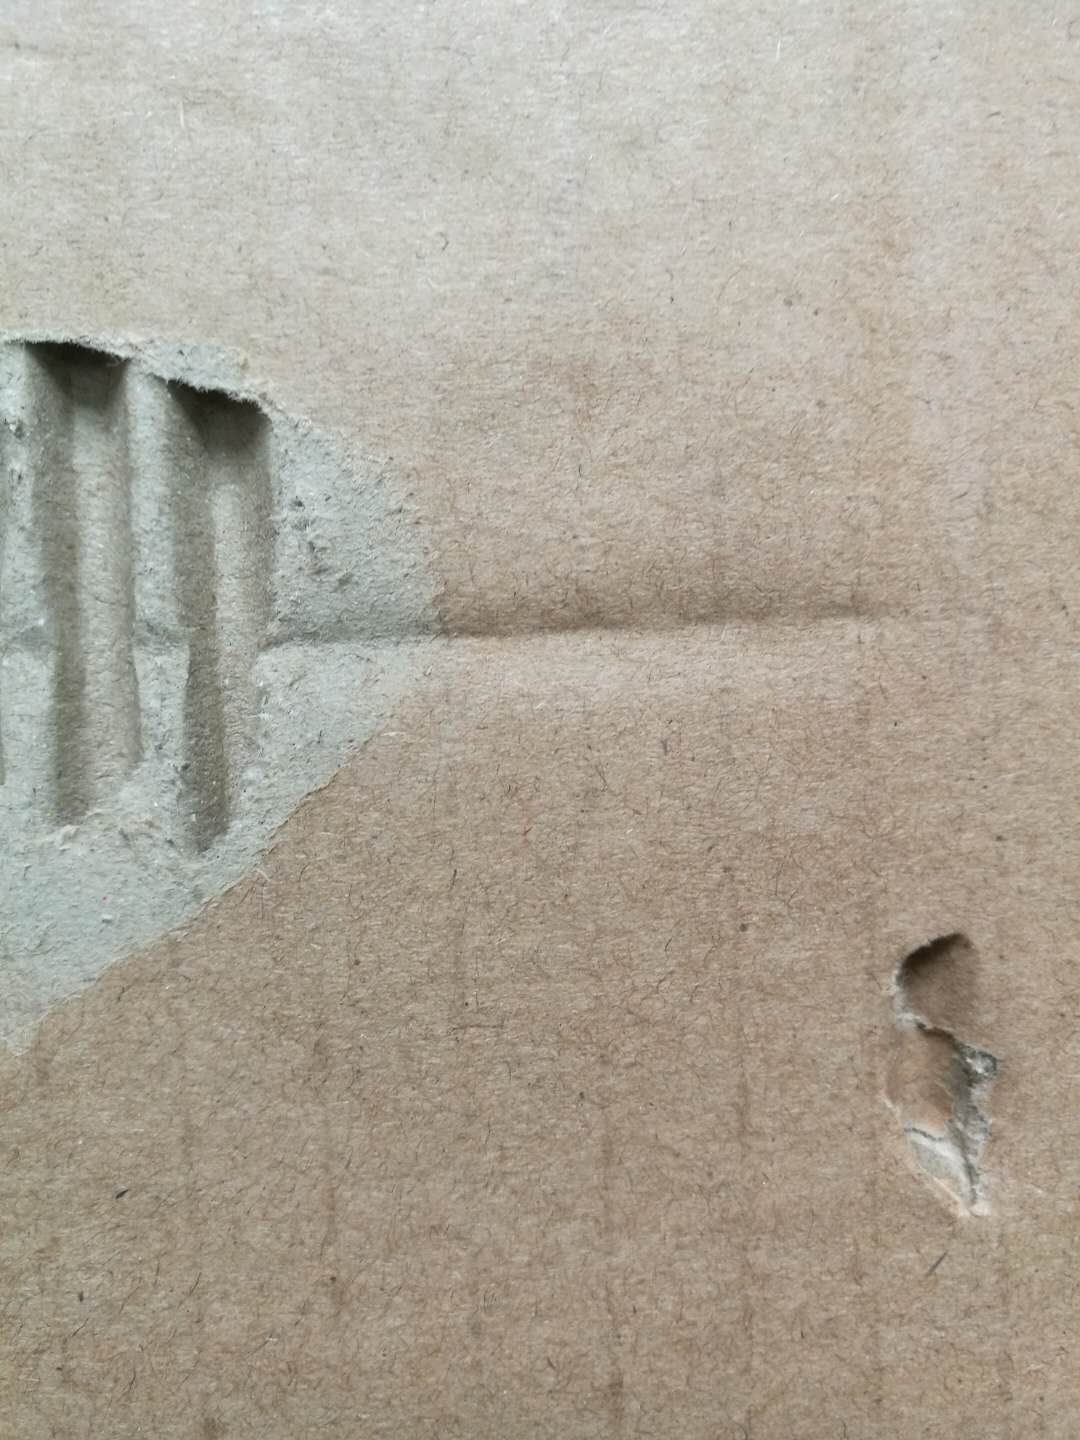defect: (2, 266, 500, 1140), (439, 558, 974, 732), (826, 895, 1051, 1267)
